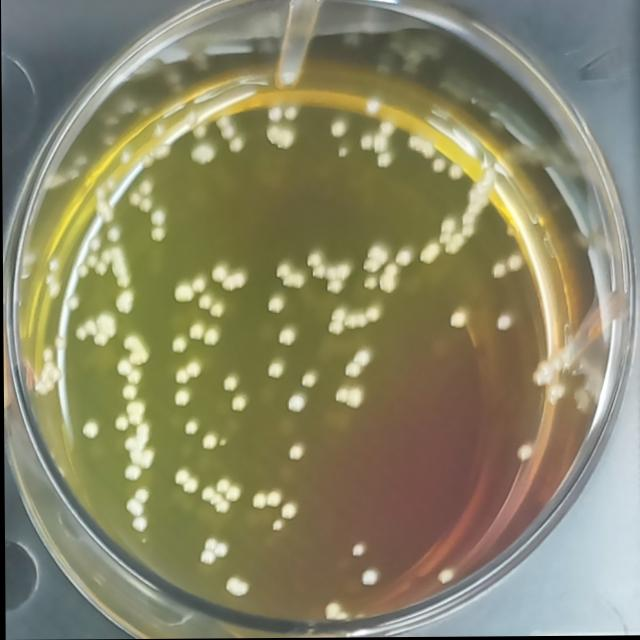StaphyloPositive: (307, 252, 351, 295), (210, 262, 248, 294), (275, 261, 307, 292), (119, 335, 148, 366), (172, 359, 202, 387), (333, 387, 363, 411), (375, 264, 397, 295), (361, 246, 387, 272), (172, 282, 196, 306), (263, 361, 287, 382), (217, 372, 239, 394), (274, 327, 296, 349), (199, 431, 220, 454), (343, 311, 366, 331), (418, 244, 439, 265), (285, 444, 307, 464), (295, 370, 317, 390), (446, 308, 466, 330), (169, 336, 190, 356), (172, 387, 192, 408), (202, 327, 221, 349), (327, 309, 343, 335), (229, 394, 249, 414), (146, 224, 166, 244), (265, 296, 286, 315), (184, 322, 203, 342), (363, 304, 383, 323), (181, 420, 199, 438), (195, 293, 213, 311), (189, 275, 207, 293), (208, 303, 225, 319), (362, 275, 377, 291)
